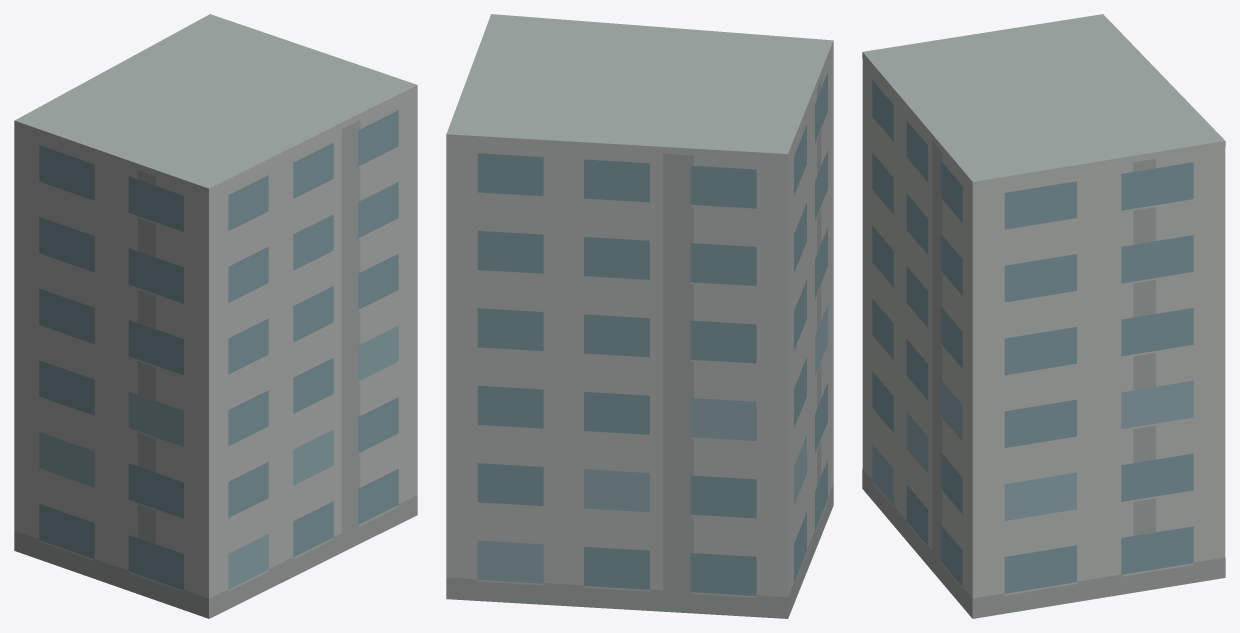
The model's file is survey-upis-32854634.glb.
3 views of the same model, side by side, from view 1: azimuth 30°, elevation 25°; view 2: azimuth 150°, elevation 25°; view 3: azimuth 270°, elevation 25° (orthographic). The views are drawn at different scales.
Visible parts, largest first — view 1: survey-upis-32854634.tmp; view 2: survey-upis-32854634.tmp; view 3: survey-upis-32854634.tmp.
Part boxes in pixels (x1=…): survey-upis-32854634.tmp: x1=14, y1=14, x2=417, y2=618; survey-upis-32854634.tmp: x1=446, y1=14, x2=833, y2=618; survey-upis-32854634.tmp: x1=862, y1=14, x2=1225, y2=618.
Size of the model in its own units: 13.36 by 16.2 by 12.21.
